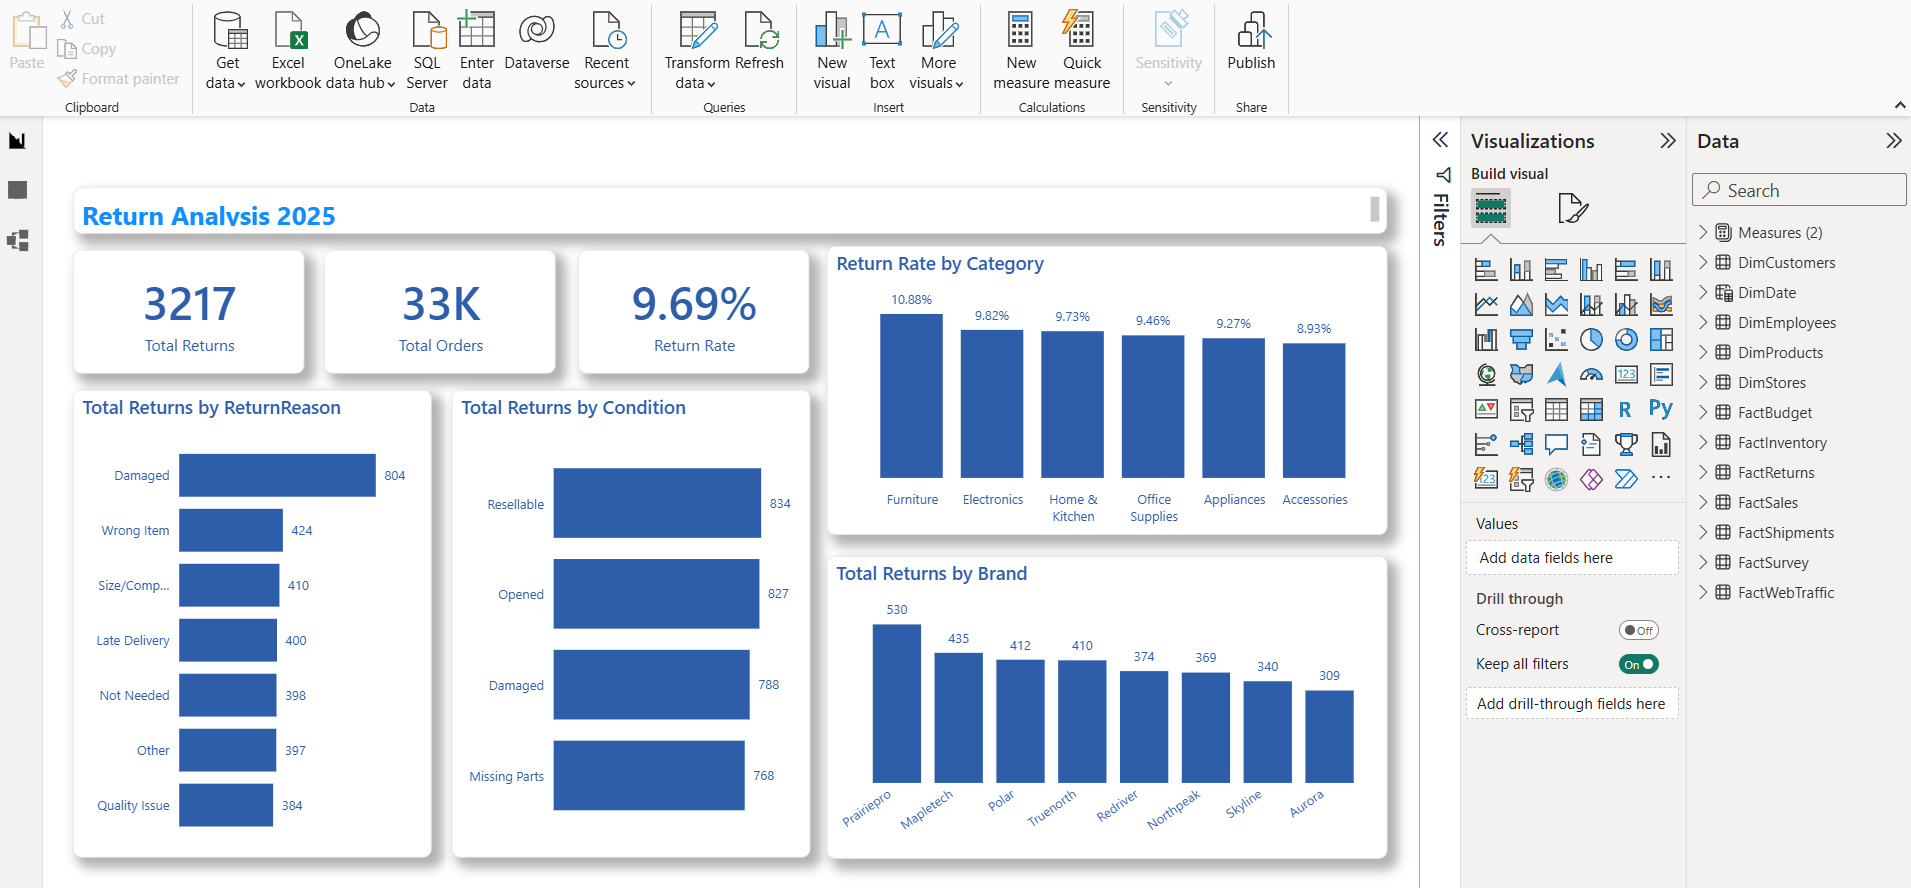

What the dashboard file says about the page in this screenshot:
{"tool":"powerbi","page":{"name":"Return Analysis","canvas":[1280,720],"ordinal":3},"visuals":[{"type":"textbox","box":[27.9,66.3,1222.1,43],"z":0},{"type":"card","fields":{"Values":["Measures (2).Total Returns"]},"box":[27.4,124.9,215.4,115.3],"z":1000},{"type":"card","fields":{"Values":["Measures (2).Return Rate"]},"box":[498.1,124.9,215.4,115.3],"z":2000},{"type":"card","fields":{"Values":["Measures (2).Total Orders"]},"box":[262.1,124.9,215.4,115.3],"z":3000},{"type":"barChart","fields":{"Y":["Measures (2).Total Returns"],"Category":["FactReturns.ReturnReason"]},"box":[27.4,255.2,333.4,435],"z":4000},{"type":"barChart","fields":{"Y":["Measures (2).Total Returns"],"Category":["FactReturns.Condition"]},"box":[380.1,255.2,333.4,435],"z":5000},{"type":"clusteredColumnChart","fields":{"Category":["DimProducts.Brand"],"Y":["Measures (2).Total Returns"]},"box":[728.6,408.9,521.4,281.3],"z":6000},{"type":"clusteredColumnChart","fields":{"Category":["DimProducts.Category"],"Y":["Measures (2).Return Rate"]},"box":[728.6,120.8,521.4,269],"z":7000}]}

Visuals, with their boxes on the page's 1280x720 design canvas (x1, y1, x2, y2). These are canvas units, not pixel positions in the 1911x888 screenshot, which may show the page scaled, cropped or inside an application window:
textbox: (x1=28, y1=66, x2=1250, y2=109)
card - Measures (2).Total Returns: (x1=27, y1=125, x2=243, y2=240)
card - Measures (2).Return Rate: (x1=498, y1=125, x2=714, y2=240)
card - Measures (2).Total Orders: (x1=262, y1=125, x2=478, y2=240)
barChart - Measures (2).Total Returns x FactReturns.ReturnReason: (x1=27, y1=255, x2=361, y2=690)
barChart - Measures (2).Total Returns x FactReturns.Condition: (x1=380, y1=255, x2=714, y2=690)
clusteredColumnChart - DimProducts.Brand x Measures (2).Total Returns: (x1=729, y1=409, x2=1250, y2=690)
clusteredColumnChart - DimProducts.Category x Measures (2).Return Rate: (x1=729, y1=121, x2=1250, y2=390)
